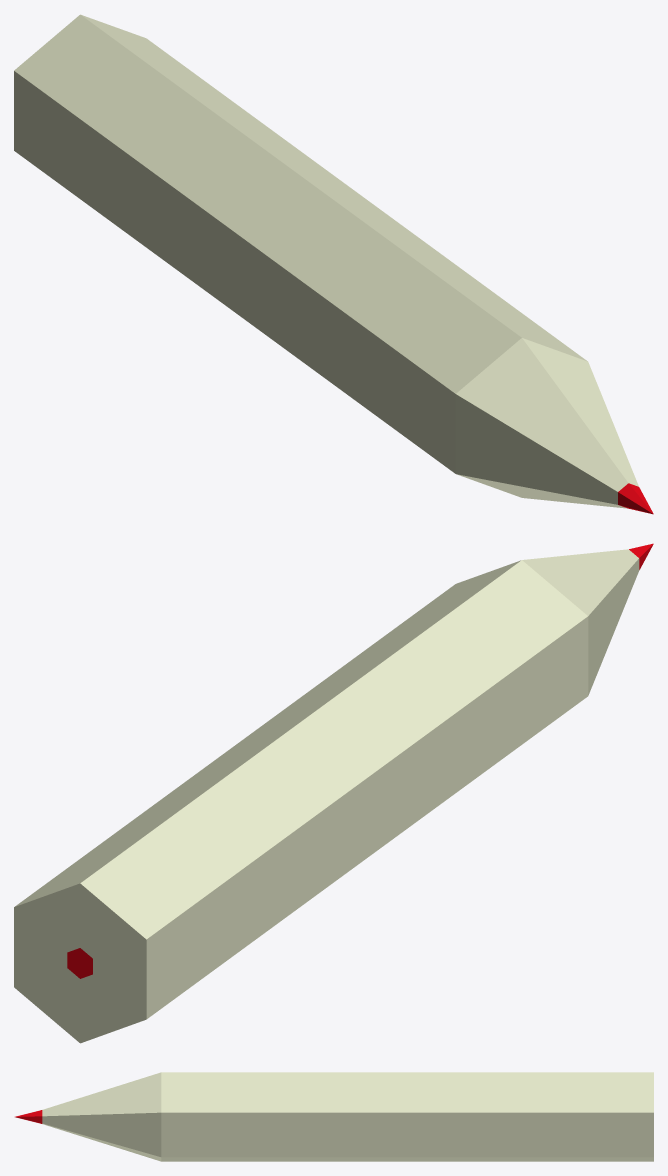
Rendered from crayon.fbx.
The picture shows the model from 3 angles, top to bottom: view 1: azimuth 30°, elevation 25°; view 2: azimuth 150°, elevation 25°; view 3: azimuth 270°, elevation 25°; orthographic projection. The views are drawn at different scales.
Parts seen in each view (by area): view 1: Crayon; view 2: Crayon, pointe; view 3: Crayon, pointe.
Part boxes in pixels (x1,y1,x2,y2): Crayon: (14, 14, 638, 508); Crayon: (14, 549, 639, 1043); pointe: (67, 543, 653, 978); Crayon: (42, 1072, 653, 1161); pointe: (15, 1110, 42, 1123).
Size of the model in its own units: 64.99 by 75.04 by 487.
